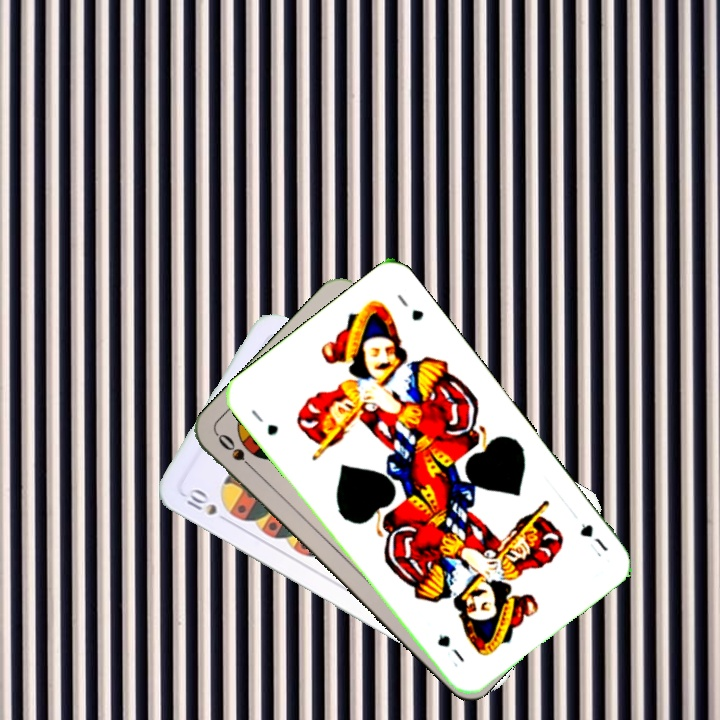GU: (576, 519, 611, 560), (246, 405, 281, 439)
S10: (182, 485, 233, 526)
SO: (213, 429, 260, 476)
